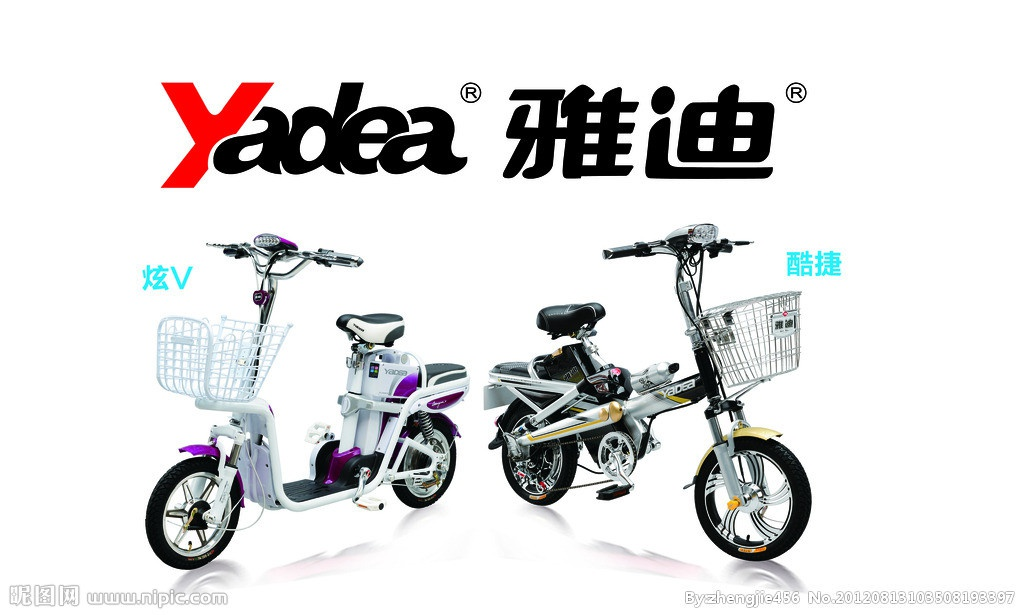non-vehicle: (485, 219, 812, 563), (142, 236, 469, 571)
